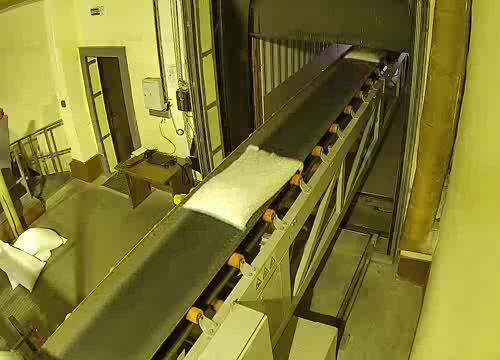bag: (183, 145, 307, 235), (344, 42, 392, 64)
